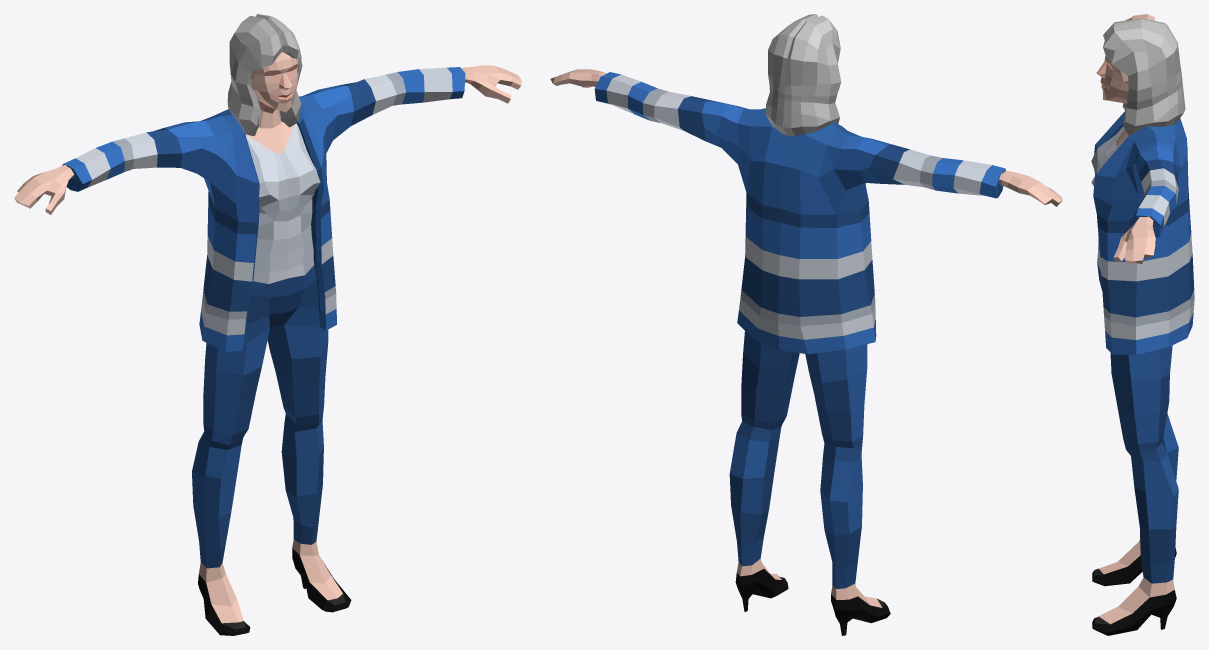
The model's file is casual_Female_I-model.fbx.
3 views of the same model, side by side, from view 1: azimuth 30°, elevation 25°; view 2: azimuth 150°, elevation 25°; view 3: azimuth 270°, elevation 25° (orthographic).
Parts seen in each view (by area): view 1: casual_Female_I, acc_coat; view 2: acc_coat, casual_Female_I; view 3: casual_Female_I, acc_coat.
Part boxes in pixels (left/top/right/bottom): casual_Female_I: left=14, top=14, right=521, bottom=635; acc_coat: left=62, top=67, right=465, bottom=351; acc_coat: left=594, top=72, right=1005, bottom=354; casual_Female_I: left=550, top=14, right=1062, bottom=635; casual_Female_I: left=1091, top=14, right=1185, bottom=635; acc_coat: left=1093, top=111, right=1194, bottom=354.
Size of the model in its own units: 154 by 172 by 27.56.
1 material, 1 textured.
